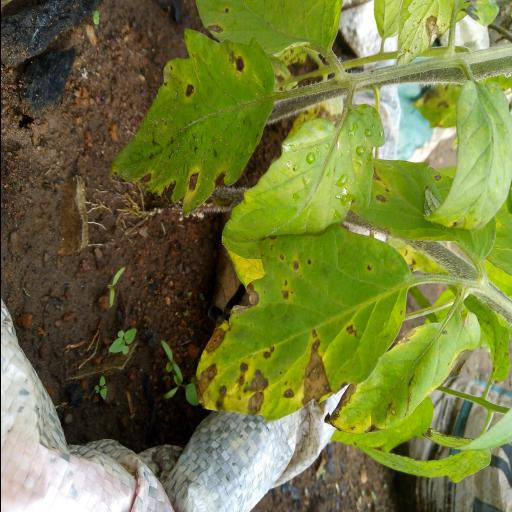disease_tomato: (191, 220, 411, 424), (110, 27, 278, 213)
